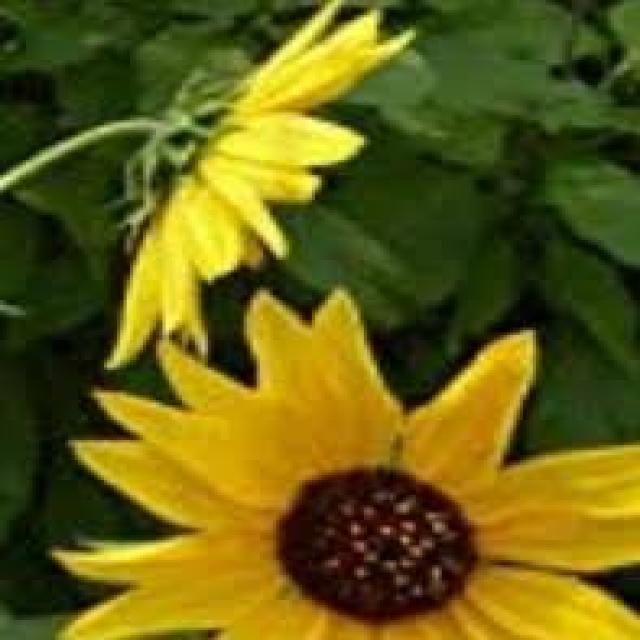sunflower: (39, 280, 640, 640), (88, 0, 452, 381)
